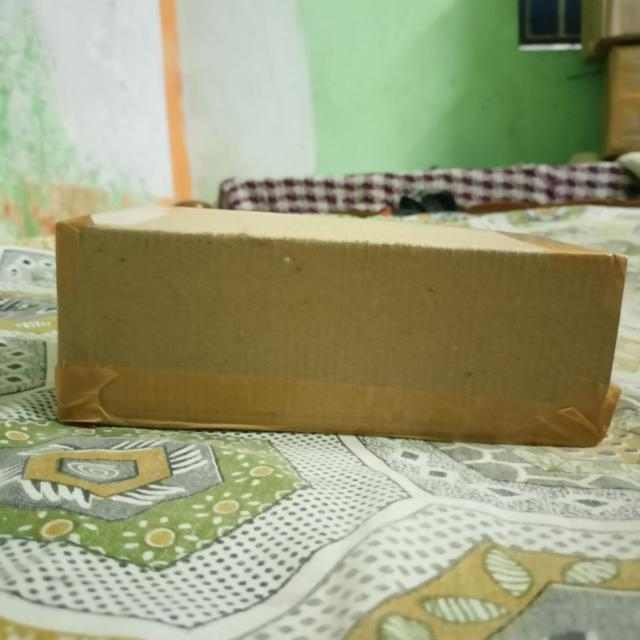box: (57, 222, 629, 443)
